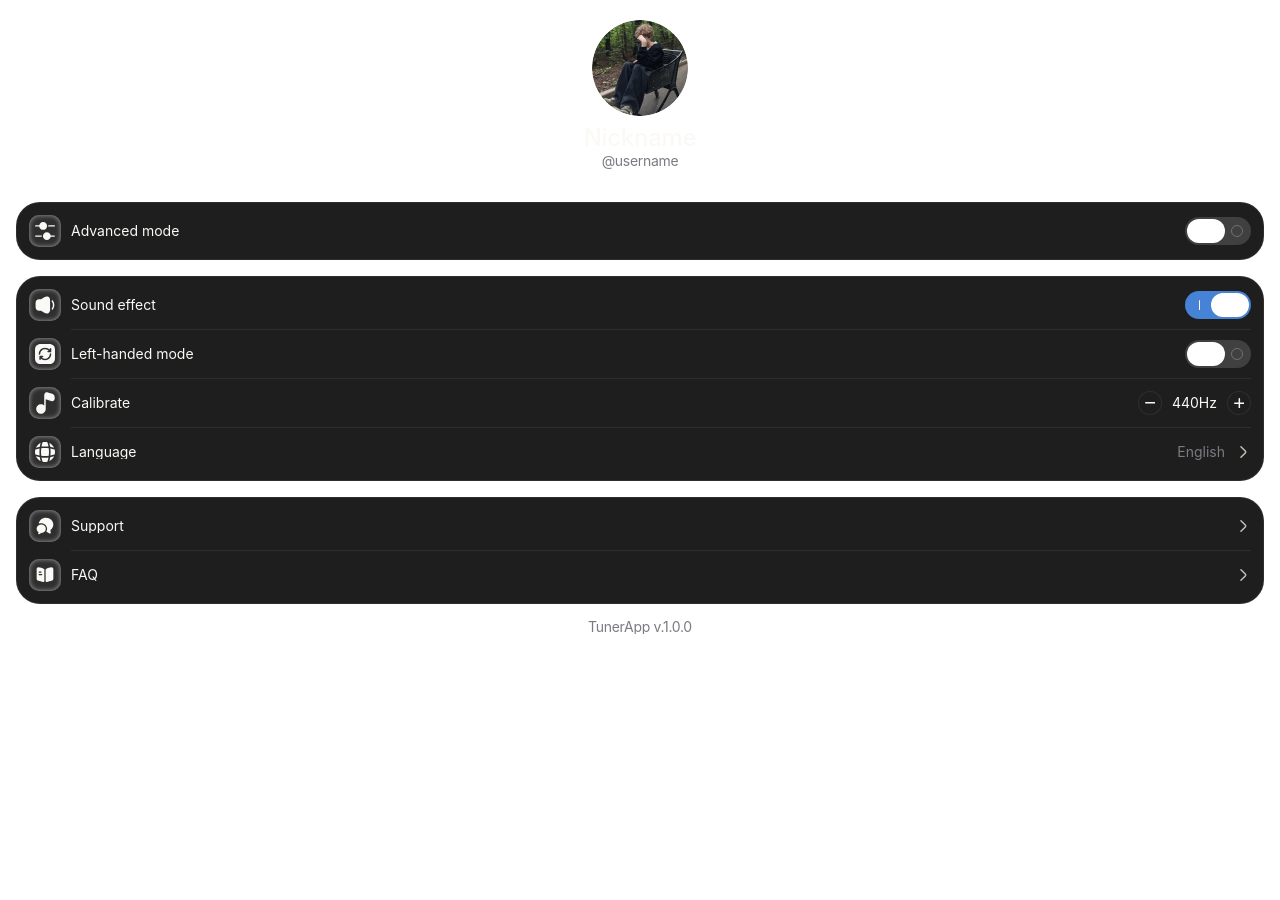
Test: SettingsScreen › increments and decrements preferences.a4Frequency via the Calibrate stepper
The width and height of the screenshot is (1280, 900).
Expected: the text "440Hz" is shown, [1172,396,1217,410]
Step 1. Click the button named "Increase" → (1239, 403), box [1227,391,1251,415]
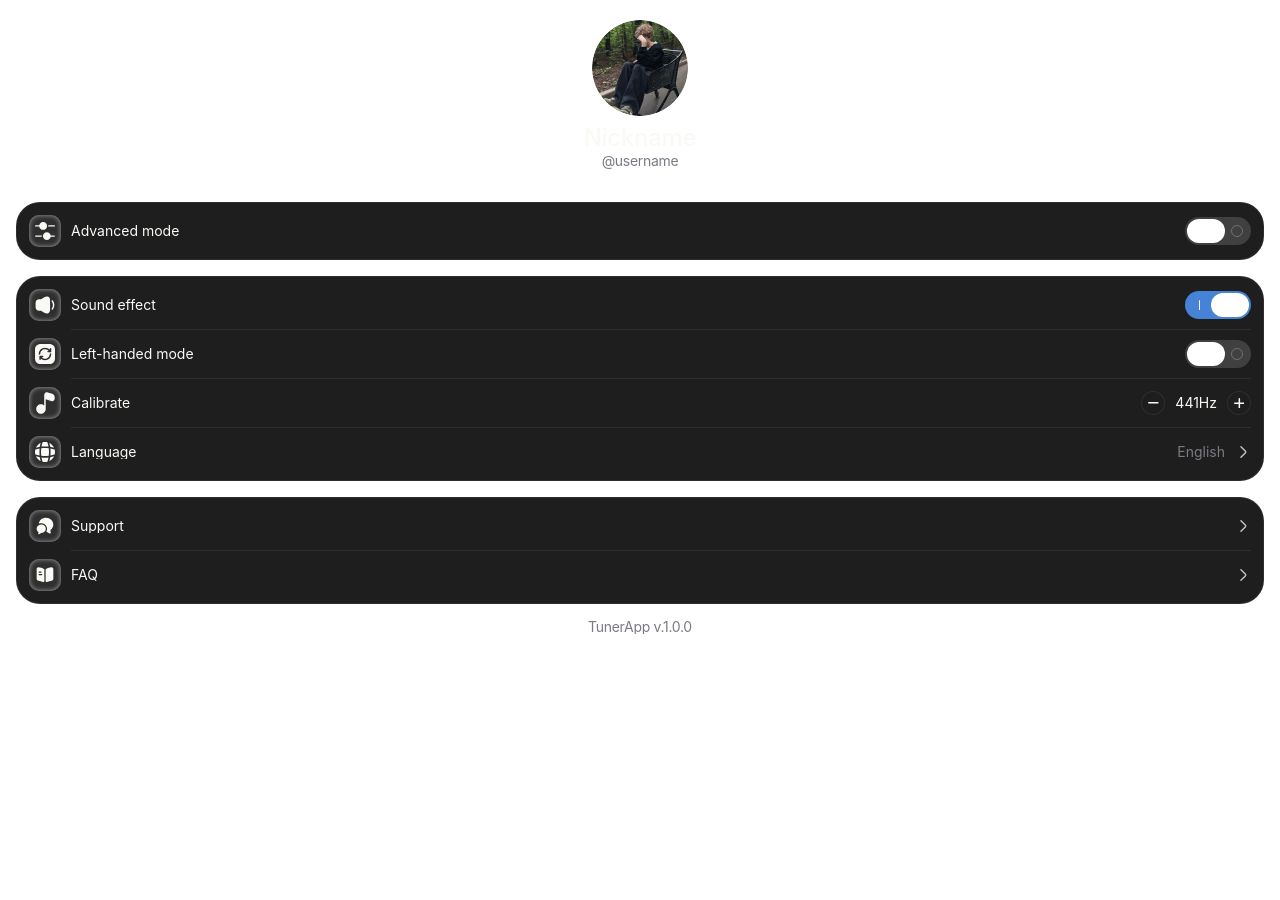
Expected: the text "441Hz" is shown, [1175,396,1217,410]
Step 2. Click the button named "Decrease" → (1153, 403), box [1141,391,1165,415]
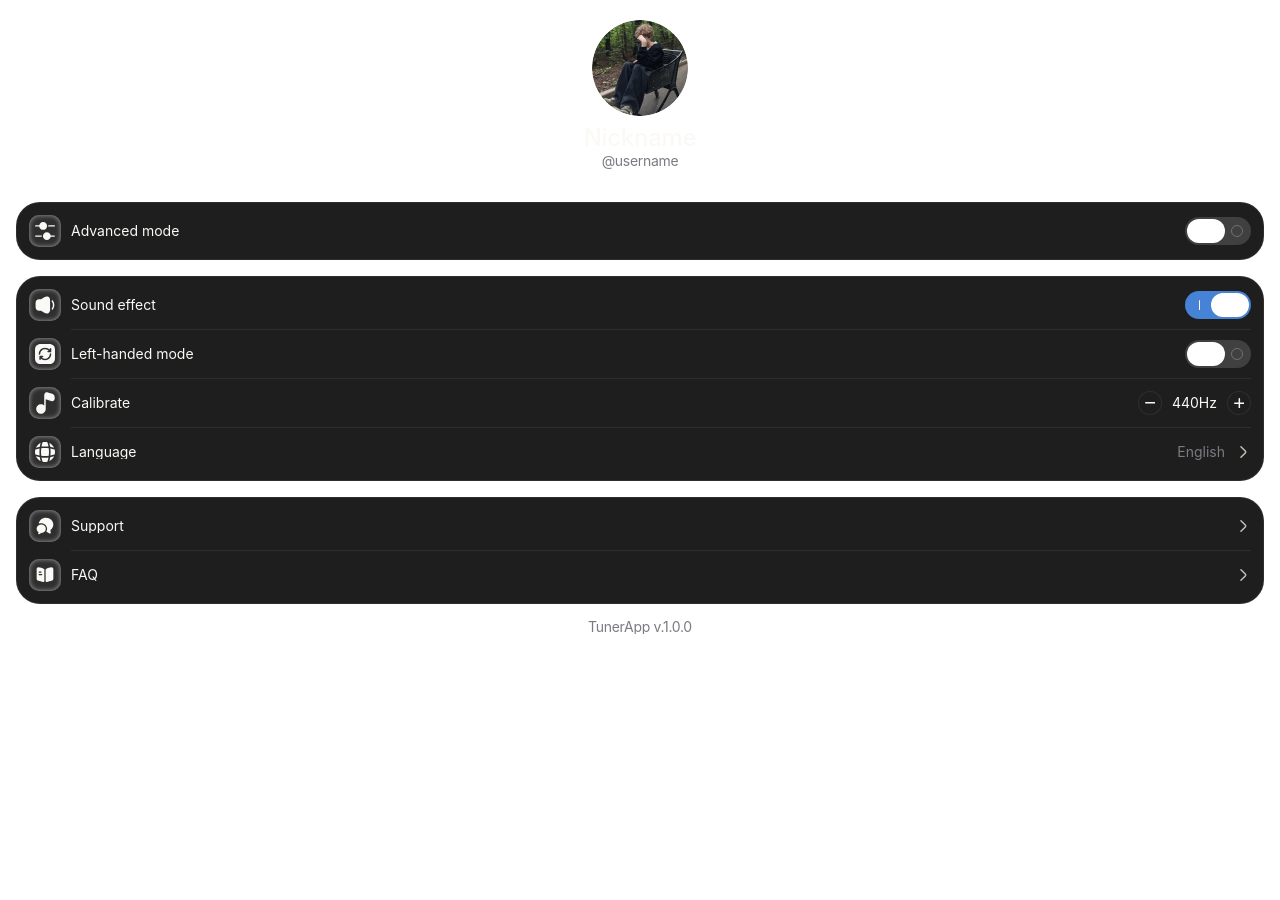
Expected: the text "440Hz" is shown, [1172,396,1217,410]
